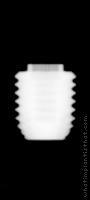Nobel Biocare: (15, 64, 76, 143)
